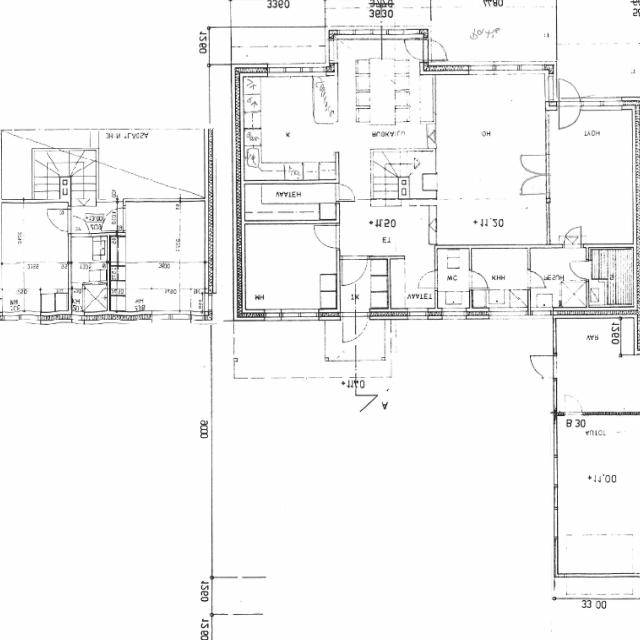door: (342, 308, 368, 344), (342, 256, 368, 286), (559, 97, 581, 132), (559, 75, 581, 110), (419, 40, 453, 61), (399, 40, 432, 61), (530, 355, 557, 379), (45, 208, 72, 232), (314, 225, 340, 249), (101, 208, 126, 231), (526, 154, 549, 174), (526, 174, 549, 194), (564, 393, 582, 415), (568, 261, 590, 279), (72, 216, 89, 237), (418, 271, 438, 288), (469, 271, 489, 288), (337, 184, 357, 201), (528, 271, 547, 288)
